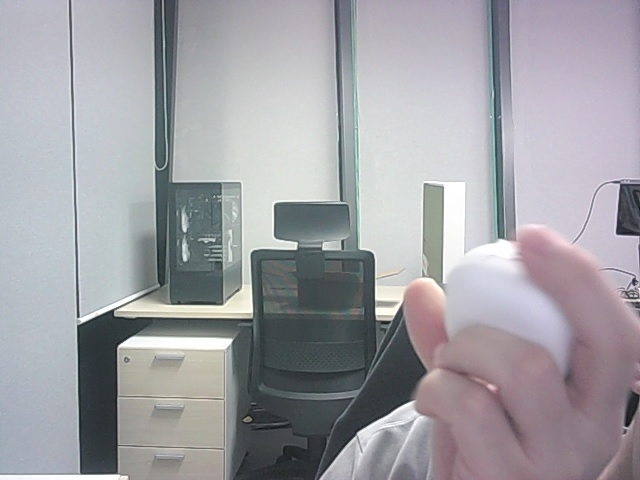case: (445, 240, 572, 374)
